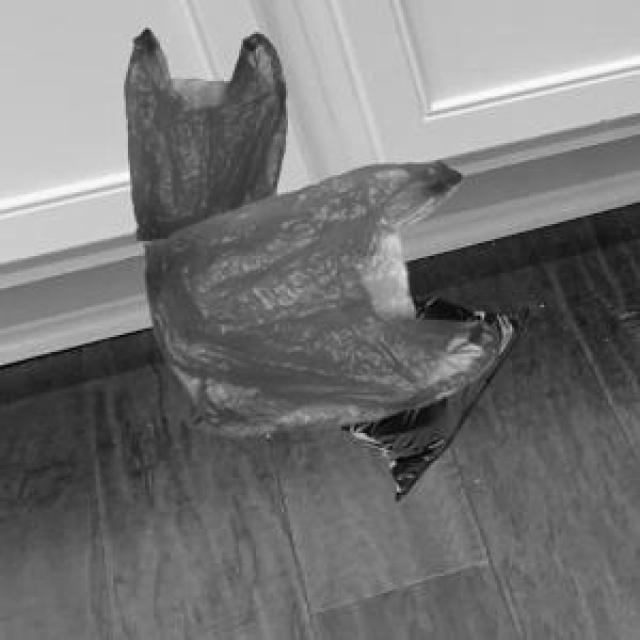miscellaneous trash: (335, 294, 525, 497), (122, 26, 282, 237)
